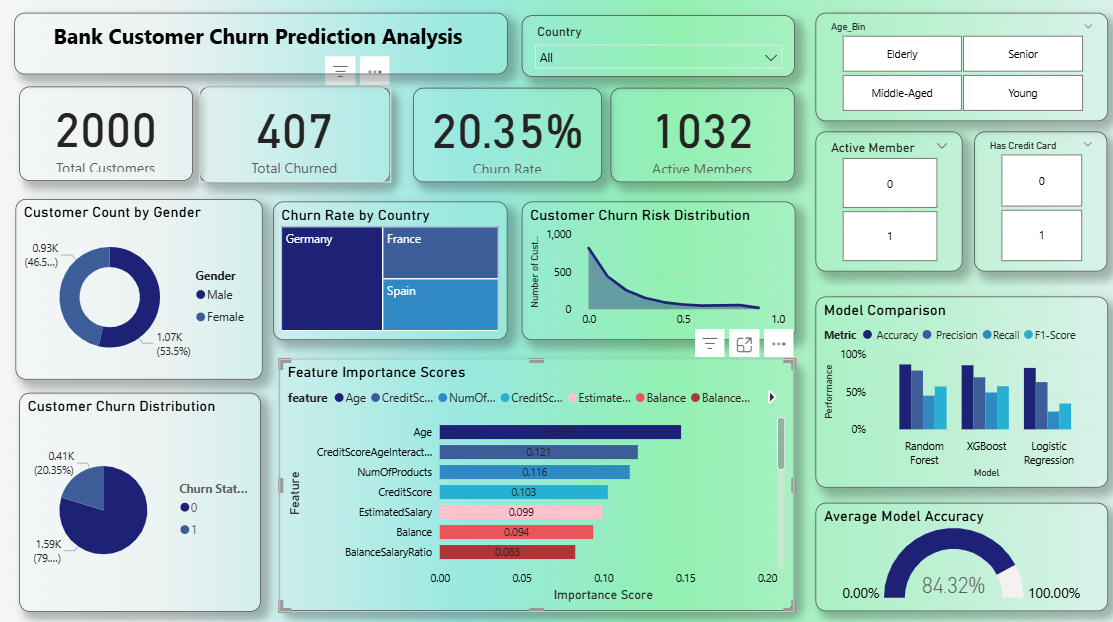

What the dashboard file says about the page in this screenshot:
{"tool":"powerbi","page":{"name":"Page 1","canvas":[1280,720],"ordinal":0},"visuals":[{"type":"card","fields":{"Values":["customer_churn_insights.Total Customers"]},"box":[24,100,198,108],"z":0},{"type":"card","fields":{"Values":["customer_churn_insights.Churn Rate"]},"box":[474,102,216,108],"z":1000},{"type":"card","fields":{"Values":["Sum(customer_churn_insights.IsActiveMember)"]},"box":[700,102,210,108],"z":2000},{"type":"card","fields":{"Values":["Sum(customer_churn_insights.Actual_Churn)"]},"box":[230,100,218,110],"z":3000},{"type":"barChart","title":"Feature Importance Scores","fields":{"Category":["feature_importance_random_forest.feature"],"Y":["Sum(feature_importance_random_forest.importance)"],"Series":["feature_importance_random_forest.feature"]},"box":[322,412,588,288],"z":4000},{"type":"donutChart","title":"Customer Count by Gender","fields":{"Category":["customer_churn_insights.Gender"],"Y":["CountNonNull(customer_churn_insights.Gender)"]},"box":[20,228,282,206],"z":5000},{"type":"areaChart","title":"Customer Churn Risk Distribution","fields":{"Category":["customer_churn_insights.Churn_Probability (bins)"],"Y":["CountNonNull(customer_churn_insights.Churn_Probability (bins))"]},"box":[598,232,312,158],"z":6000},{"type":"clusteredColumnChart","title":"Model Comparison","fields":{"Category":["Table.Model"],"Y":["Avg(Table.Accuracy)","Avg(Table.Precision)","Avg(Table.Recall)","Avg(Table.F1-Score)"]},"box":[934,340,334,218],"z":7000},{"type":"textbox","box":[18,16,564,70],"z":8000},{"type":"slicer","fields":{"Values":["customer_churn_insights.Geography"]},"box":[598,18,312,70],"z":9000},{"type":"slicer","fields":{"Values":["customer_churn_insights.Age_Bin"]},"box":[934,16,334,124],"z":10000},{"type":"slicer","fields":{"Values":["customer_churn_insights.IsActiveMember"]},"box":[934,152,168,160],"z":11000},{"type":"gauge","title":"Average Model Accuracy","fields":{"Y":["Avg(Table.Accuracy)"]},"box":[934,576,334,124],"z":12000},{"type":"pieChart","title":"Customer Churn Distribution","fields":{"Category":["customer_churn_insights.Churn Status"],"Y":["CountNonNull(customer_churn_insights.Churn Status)"]},"box":[24,450,276,250],"z":13000},{"type":"slicer","fields":{"Values":["customer_churn_insights.Has Credit Card"]},"box":[1116,152,152,160],"z":14000},{"type":"treemap","title":"Churn Rate by Country","fields":{"Group":["customer_churn_insights.Country"],"Values":["Avg(customer_churn_insights.Churn Status)"]},"box":[314,232,268,158],"z":15000}]}

Visuals, with their boxes in screenshot pixels (x1, y1, x2, y2), scaled from the page's 1280x720 canvas onto the 1113x622 screenshot:
card - customer_churn_insights.Total Customers: bbox(21, 86, 193, 180)
card - customer_churn_insights.Churn Rate: bbox(412, 88, 600, 181)
card - Sum(customer_churn_insights.IsActiveMember): bbox(609, 88, 791, 181)
card - Sum(customer_churn_insights.Actual_Churn): bbox(200, 86, 390, 181)
"Feature Importance Scores" barChart: bbox(280, 356, 791, 605)
"Customer Count by Gender" donutChart: bbox(17, 197, 263, 375)
"Customer Churn Risk Distribution" areaChart: bbox(520, 200, 791, 337)
"Model Comparison" clusteredColumnChart: bbox(812, 294, 1103, 482)
textbox: bbox(16, 14, 506, 74)
slicer - customer_churn_insights.Geography: bbox(520, 16, 791, 76)
slicer - customer_churn_insights.Age_Bin: bbox(812, 14, 1103, 121)
slicer - customer_churn_insights.IsActiveMember: bbox(812, 131, 958, 270)
"Average Model Accuracy" gauge: bbox(812, 498, 1103, 605)
"Customer Churn Distribution" pieChart: bbox(21, 389, 261, 605)
slicer - customer_churn_insights.Has Credit Card: bbox(970, 131, 1103, 270)
"Churn Rate by Country" treemap: bbox(273, 200, 506, 337)
